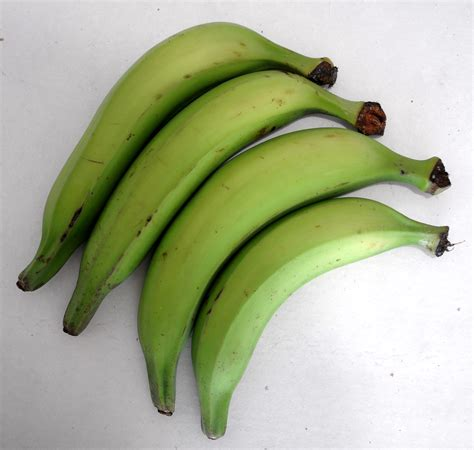banana: (135, 125, 422, 429), (58, 67, 346, 338), (17, 19, 289, 300), (190, 193, 432, 442)
